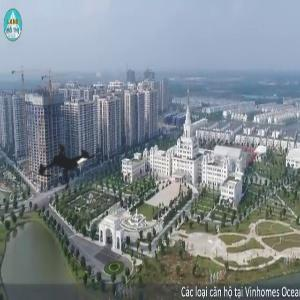drone: (15, 112, 125, 222)
